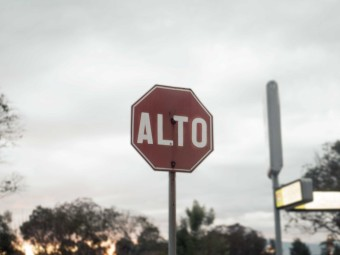SS: (135, 84, 213, 173)
